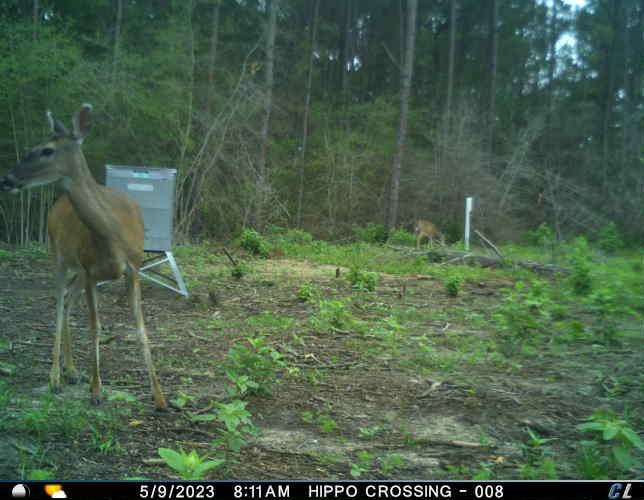Deer: (0, 98, 174, 416), (409, 217, 453, 254)
